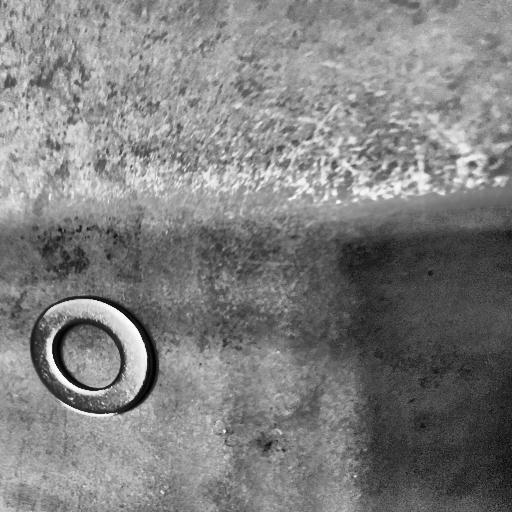Washer: (30, 296, 157, 416)
